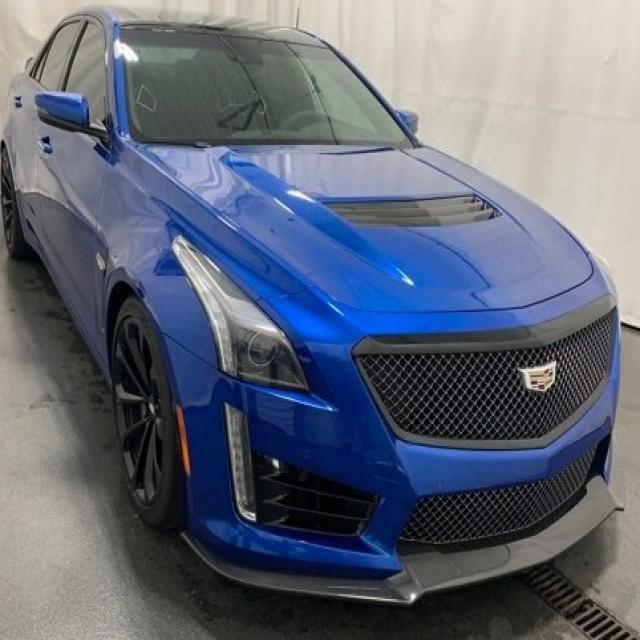blue: (0, 3, 622, 608)
